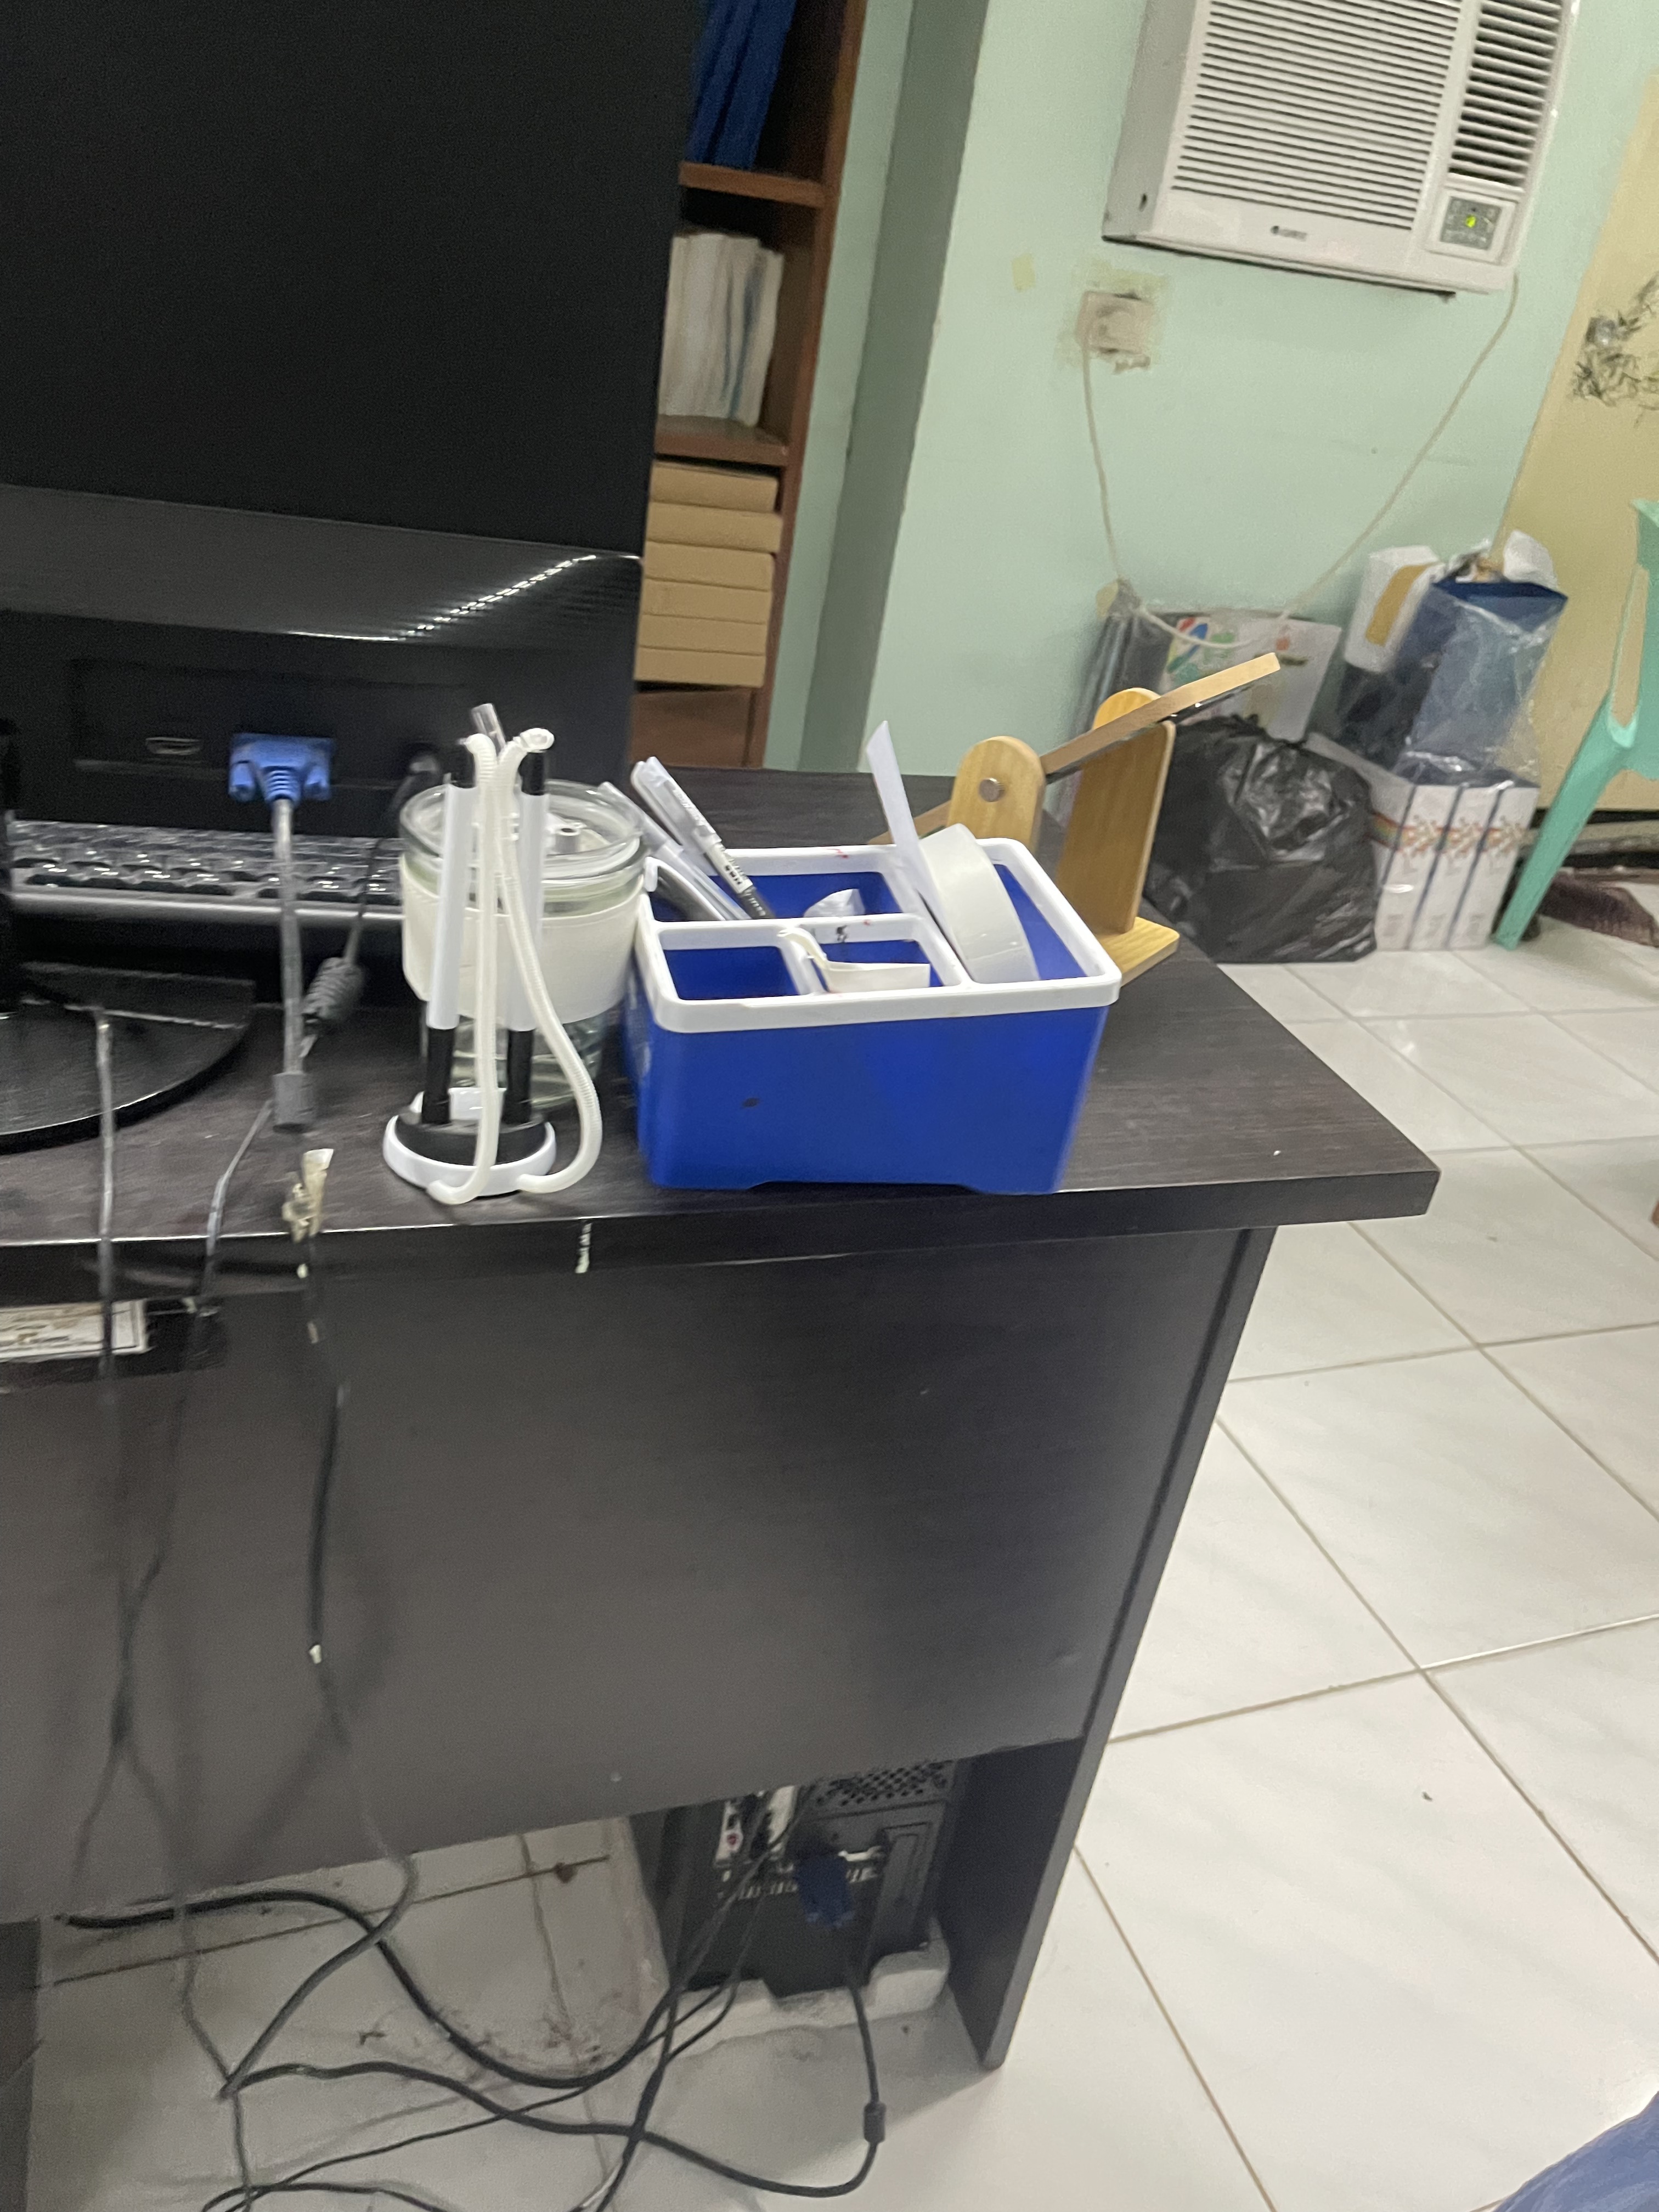table1: (10, 782, 1464, 2085)
